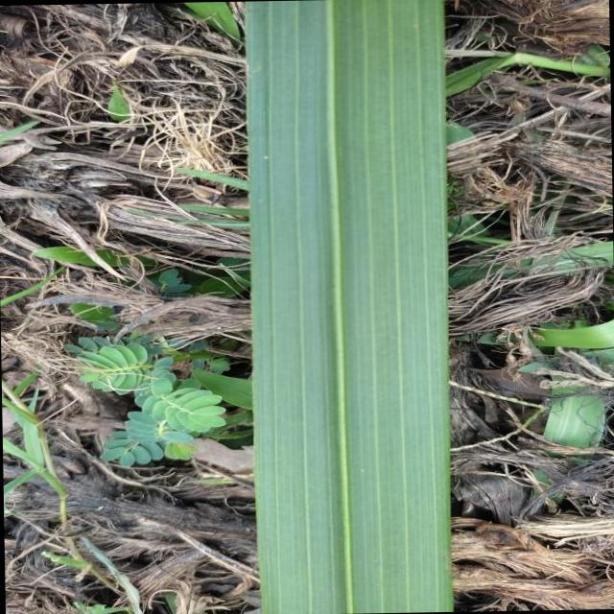Healthy: (250, 5, 454, 614)
